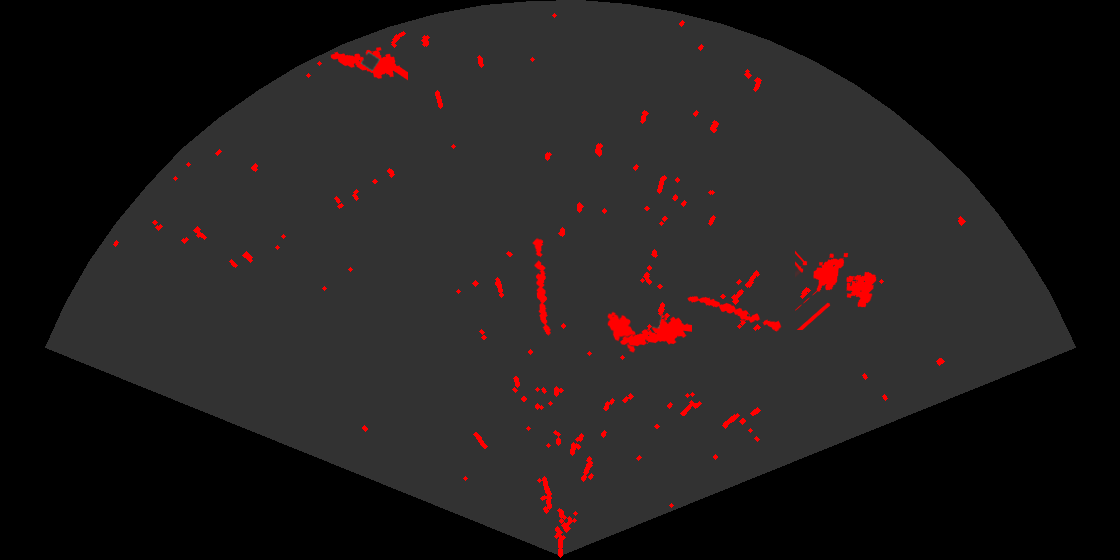AUV: (606, 310, 638, 354)
cage: (795, 249, 878, 330)
chain: (686, 294, 783, 333), (531, 237, 552, 337)
frogman: (329, 46, 408, 82), (618, 313, 692, 348)
